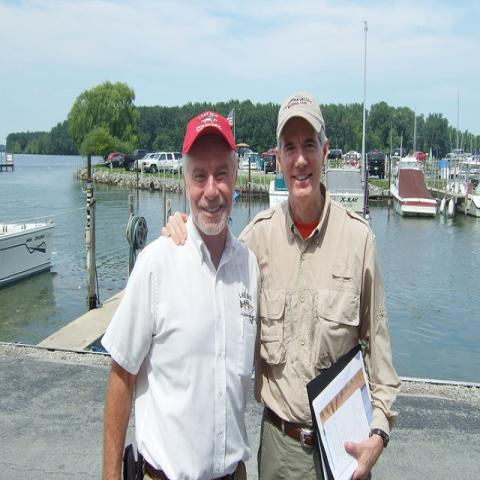car: (368, 149, 385, 179), (102, 152, 129, 168), (238, 153, 262, 170), (261, 155, 276, 171), (170, 157, 183, 174), (328, 149, 342, 162), (410, 151, 426, 162), (346, 154, 357, 166)
truck: (138, 151, 184, 174), (123, 149, 147, 171)
